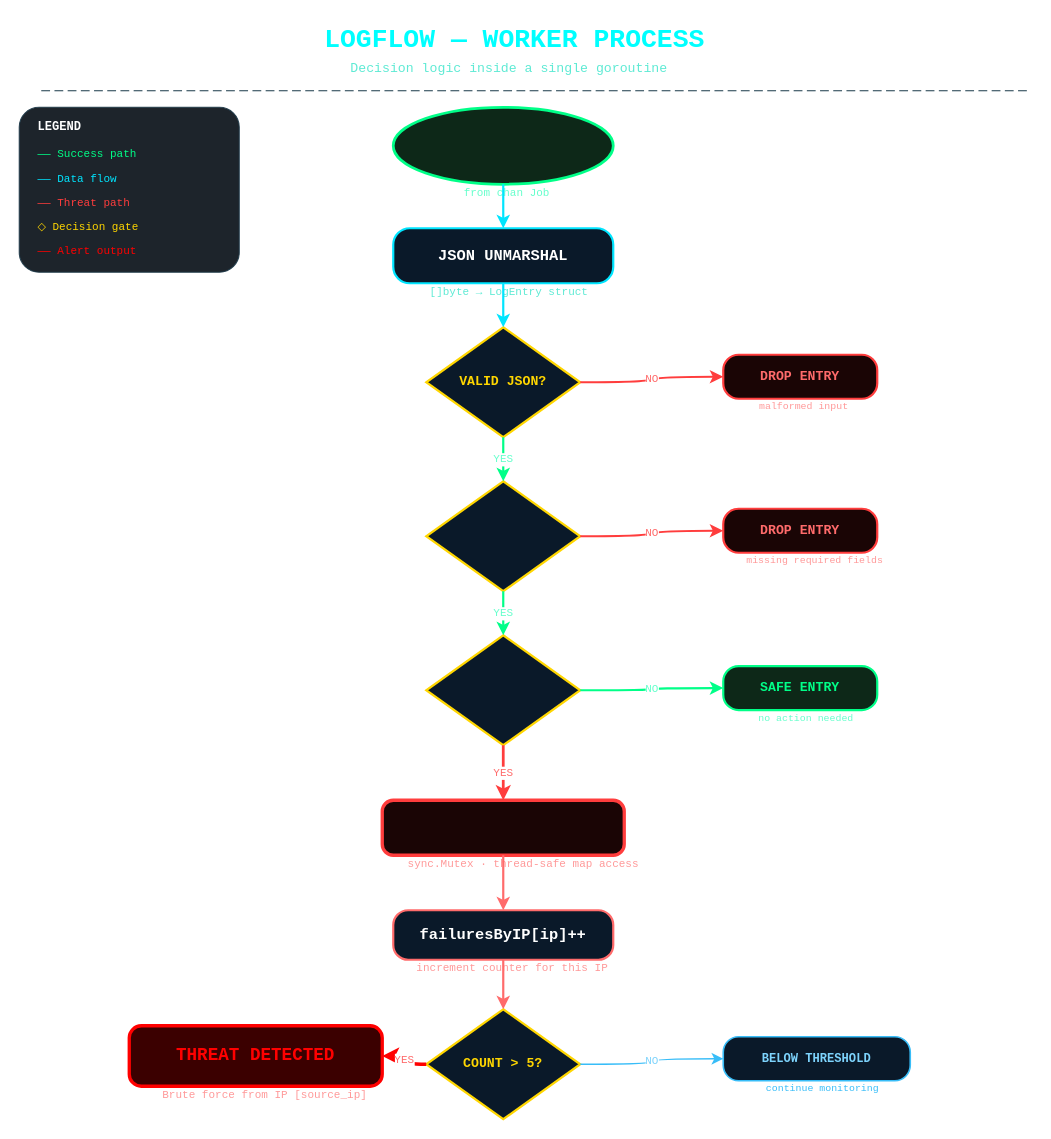
Some shapes in this 1051 by 1139 pixel diagram are drawn without their labels. Each missing label, with the centre of its shape:
FIELDS OK?: (503,536)
IS FAILURE?: (503,690)
MUTEX LOCK: (502,827)
RECEIVE LOG JOB: (502,145)
